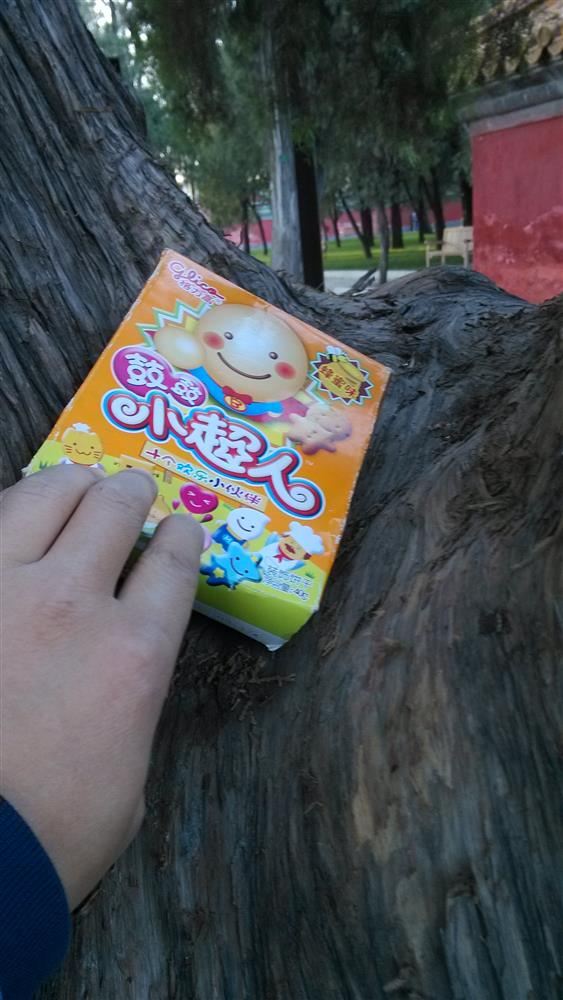glice_superman: (17, 235, 387, 642)
